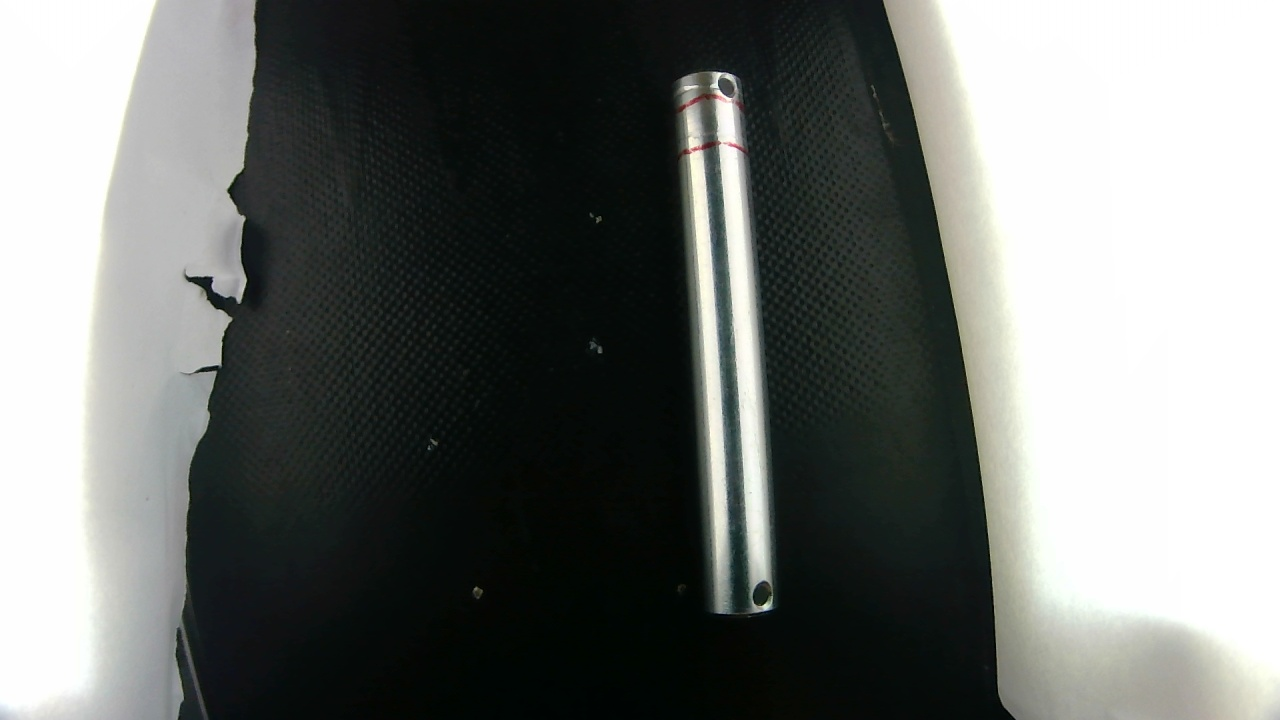odlinemark_pin: (675, 74, 737, 101)
